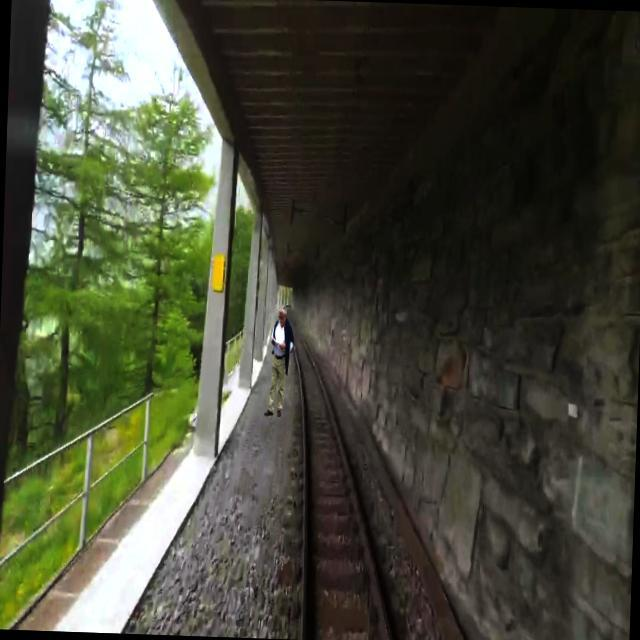danger: (260, 295, 300, 423)
rail: (279, 315, 436, 640)
